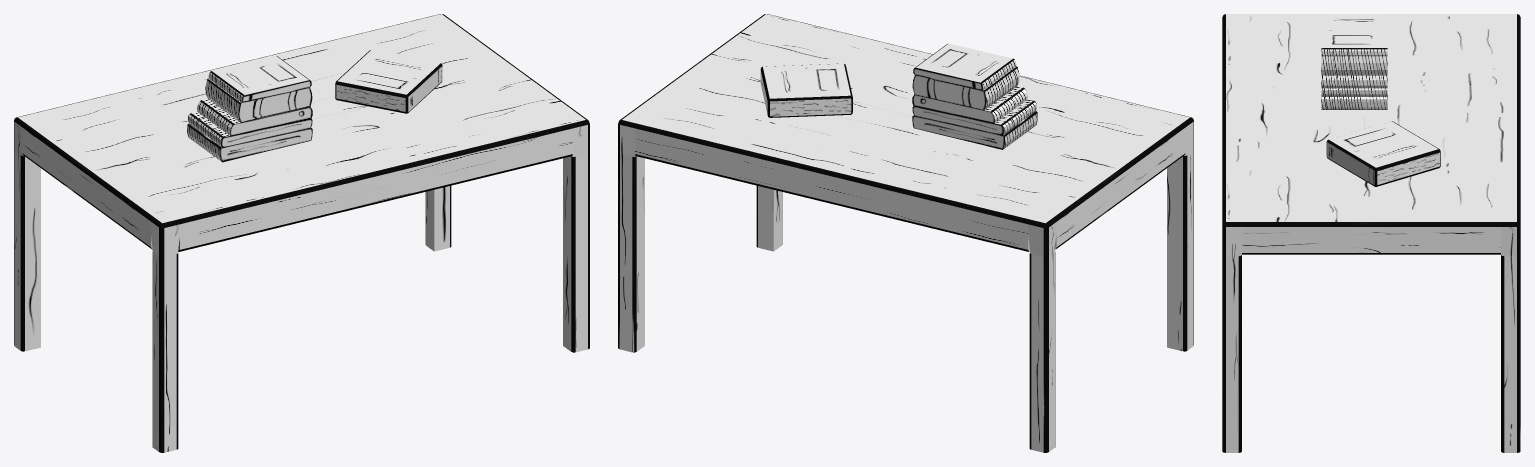
The model's file is Table2.fbx.
The picture shows the model from 3 angles, left to right: view 1: azimuth 30°, elevation 25°; view 2: azimuth 150°, elevation 25°; view 3: azimuth 270°, elevation 25°; orthographic projection.
Visible parts, largest first — view 1: Mesa, BookDecor; view 2: Mesa, BookDecor; view 3: Mesa, BookDecor.
Part boxes in pixels (bbox=[...]): Mesa: bbox=[14, 14, 589, 452]; BookDecor: bbox=[187, 50, 442, 162]; Mesa: bbox=[618, 14, 1193, 452]; BookDecor: bbox=[760, 43, 1037, 149]; Mesa: bbox=[1222, 14, 1520, 452]; BookDecor: bbox=[1321, 15, 1440, 186].
Size of the model in its own units: 5.18 by 3.34 by 3.09.
